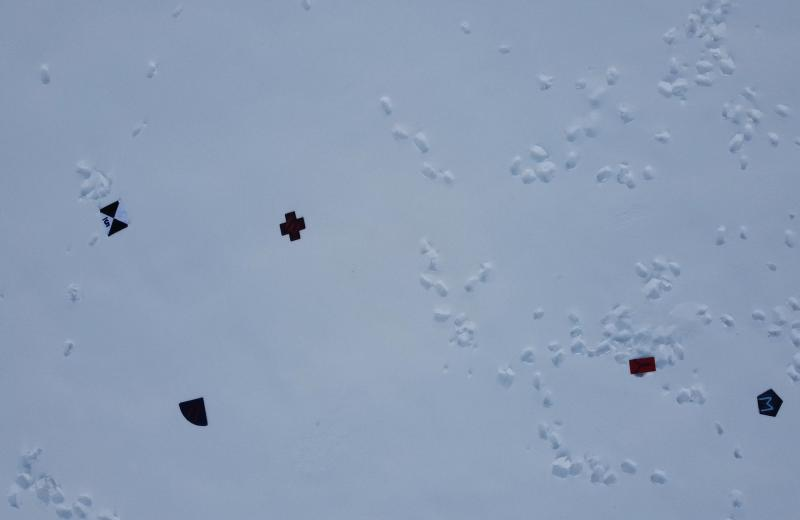Cross: (277, 207, 306, 244)
Pentagon: (754, 384, 785, 424)
Quarter Circle: (178, 392, 210, 430)
Rectangle: (628, 350, 664, 377)
